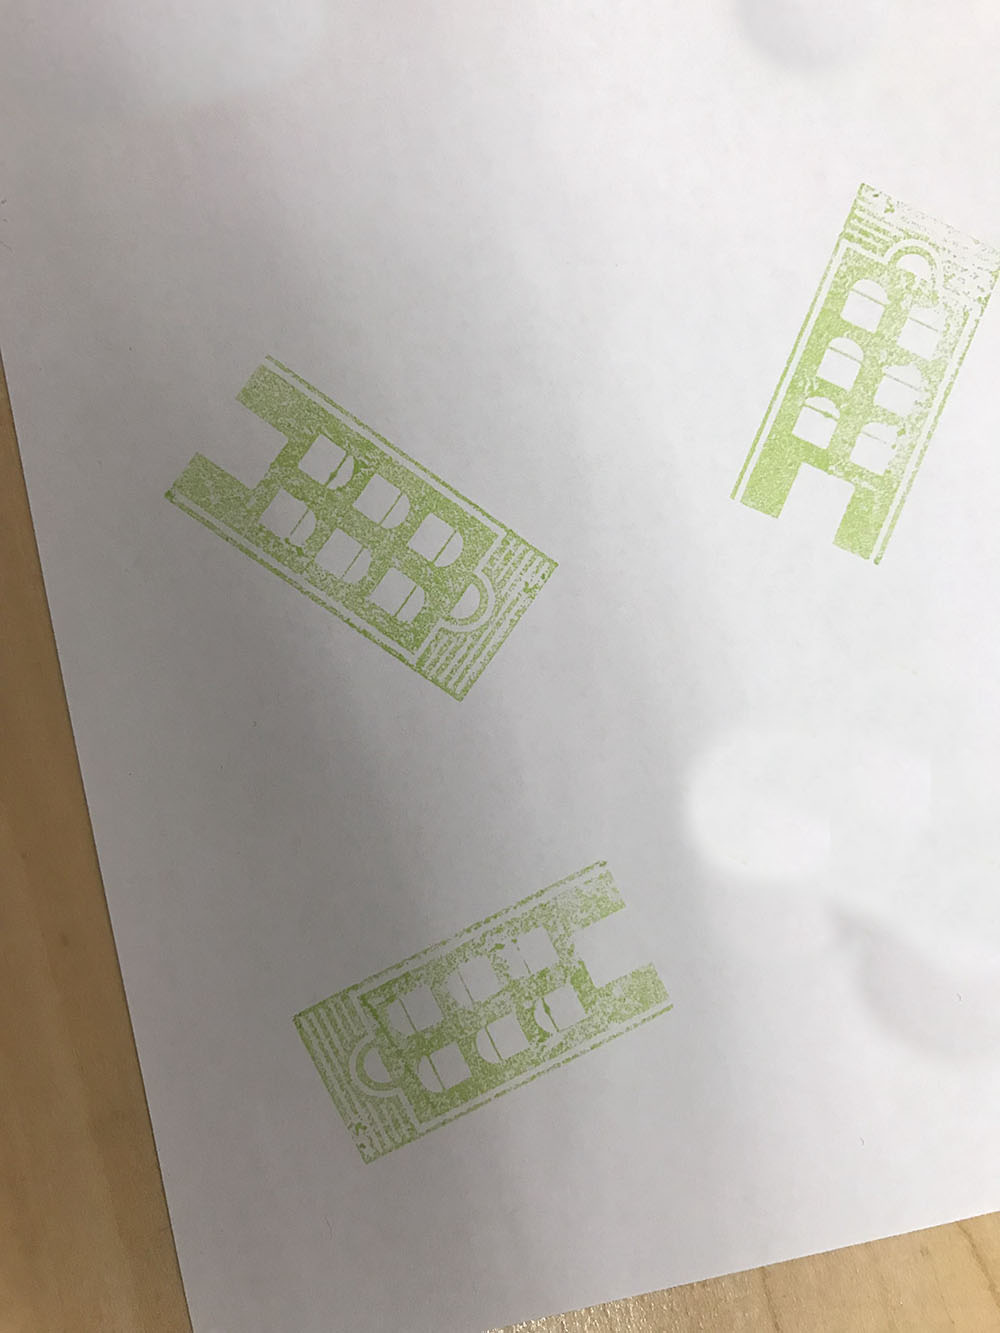build: (142, 342, 595, 718), (675, 146, 1000, 599), (277, 850, 706, 1178)
